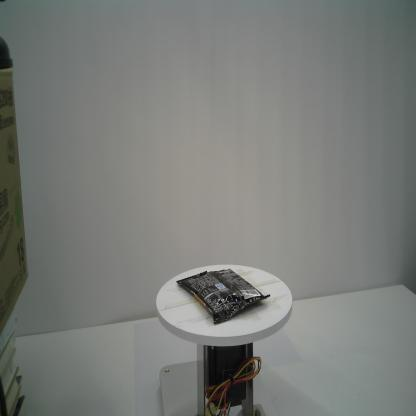Instant Drink: (176, 268, 271, 325)
